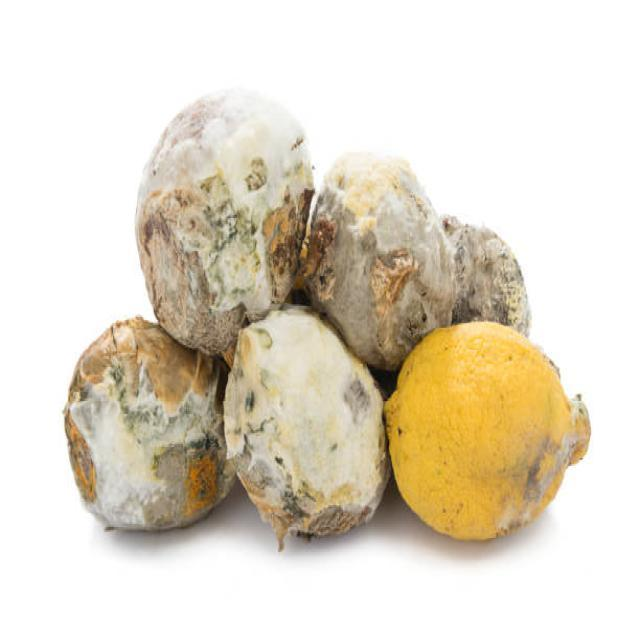Rotten: (139, 88, 315, 356), (310, 150, 460, 365)
